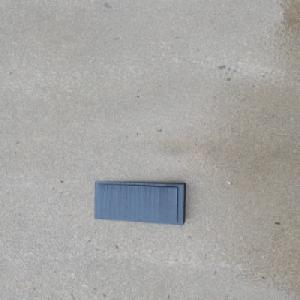PlasticPart: (93, 180, 185, 225)
